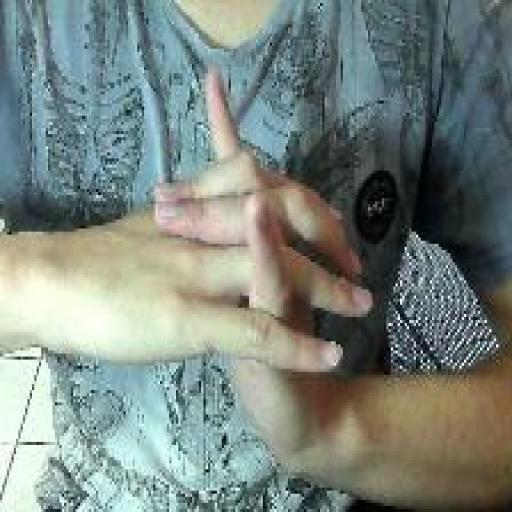Ushi -ox-: (150, 64, 376, 491)
